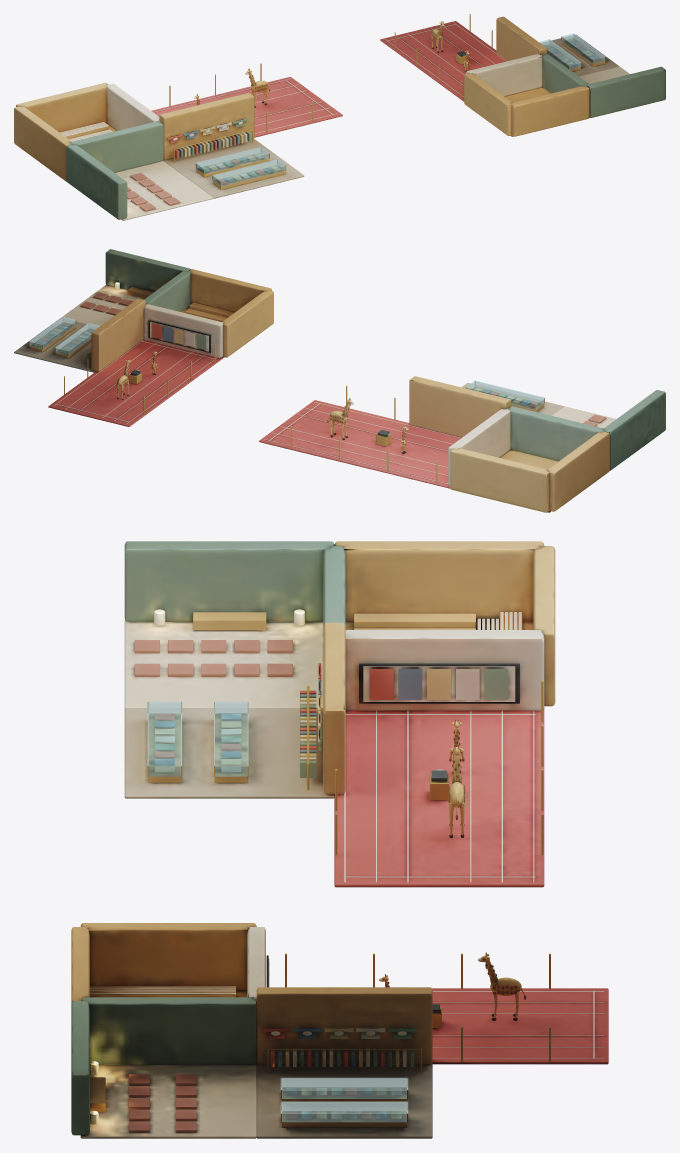
The model's file is baked.glb.
3 renders of one model, top to bottom at view 1: azimuth 30°, elevation 25°; view 2: azimuth 150°, elevation 25°; view 3: azimuth 270°, elevation 25°, orthographic. The views are drawn at different scales.
Parts seen in each view (by area): view 1: module_1_0_Sports_Floor.001, module_0_0_Sports_Floor.001, module_0_0_Vintage_Tshirt_Wall.001, module_0_0_Vintage_Floor.001, module_0_0_Prayer_Back_Wall.001, module_1_0_Sauna_Left_Wall.001, module_0_0_Prayer_Left_Wall.001, module_0_0_Sauna_Back_Wall.001, module_1_0_Prayer_Left_Wall.001, module_0_0_Supporters_Floor.001, module_0_0_Sauna_Left_Wall.001, module_1_0_Shared_Sauna_Sports_Wall.001 (+18 smaller); view 2: module_0_0_Sports_Floor.001, module_1_0_Sports_Floor.001, module_0_0_Sauna_Back_Wall.001, module_0_0_Vintage_Tshirt_Wall.001, module_0_0_Prayer_Back_Wall.001, module_0_0_Sauna_Left_Wall.001, module_0_0_Prayer_Left_Wall.001, module_1_0_Vintage_Tshirt_Wall.001, module_1_0_Prayer_Left_Wall.001, module_1_0_Sauna_Left_Wall.001, module_1_0_Sauna_Back_Wall.001, module_1_0_Shared_Sauna_Sports_Wall.001 (+11 smaller); view 3: module_0_0_Sports_Floor.001, module_0_0_Prayer_Left_Wall.001, module_0_0_Sauna_Left_Wall.001, module_1_0_Sports_Floor.001, module_0_0_Supporters_Floor.001, module_0_0_Vintage_Floor.001, module_1_0_Vintage_Tshirt_Wall.001, module_1_0_Prayer_Back_Wall.001, module_1_0_Sauna_Back_Wall.001, module_0_0_Shared_Sauna_Sports_Wall.001, module_1_0_Supporters_Floor.001, module_1_0_Vintage_Floor.001 (+22 smaller).
Part boxes in pixels (x1,y1,x2,y2): module_1_0_Sports_Floor.001: [380, 21, 506, 101]; module_0_0_Sports_Floor.001: [151, 76, 342, 137]; module_0_0_Vintage_Tshirt_Wall.001: [159, 93, 254, 159]; module_0_0_Vintage_Floor.001: [163, 138, 304, 198]; module_0_0_Prayer_Back_Wall.001: [70, 121, 163, 172]; module_1_0_Sauna_Left_Wall.001: [511, 86, 589, 136]; module_0_0_Prayer_Left_Wall.001: [66, 144, 127, 219]; module_0_0_Sauna_Back_Wall.001: [16, 82, 108, 132]; module_1_0_Prayer_Left_Wall.001: [587, 66, 665, 117]; module_0_0_Supporters_Floor.001: [114, 160, 213, 220]; module_0_0_Sauna_Left_Wall.001: [14, 105, 71, 181]; module_1_0_Shared_Sauna_Sports_Wall.001: [466, 54, 543, 96]; module_0_0_Sports_Floor.001: [259, 400, 461, 488]; module_1_0_Sports_Floor.001: [48, 339, 222, 426]; module_0_0_Sauna_Back_Wall.001: [450, 448, 549, 512]; module_0_0_Vintage_Tshirt_Wall.001: [409, 376, 510, 437]; module_0_0_Prayer_Back_Wall.001: [508, 406, 605, 461]; module_0_0_Sauna_Left_Wall.001: [547, 431, 609, 511]; module_0_0_Prayer_Left_Wall.001: [603, 390, 665, 470]; module_1_0_Vintage_Tshirt_Wall.001: [91, 298, 145, 371]; module_1_0_Prayer_Left_Wall.001: [105, 249, 190, 291]; module_1_0_Sauna_Left_Wall.001: [189, 269, 272, 312]; module_1_0_Sauna_Back_Wall.001: [222, 290, 273, 357]; module_1_0_Shared_Sauna_Sports_Wall.001: [143, 304, 223, 358]; module_0_0_Sports_Floor.001: [334, 708, 544, 887]; module_0_0_Prayer_Left_Wall.001: [124, 541, 334, 621]; module_0_0_Sauna_Left_Wall.001: [334, 541, 544, 621]; module_1_0_Sports_Floor.001: [256, 988, 608, 1064]; module_0_0_Supporters_Floor.001: [124, 620, 323, 708]; module_0_0_Vintage_Floor.001: [124, 708, 334, 798]; module_1_0_Vintage_Tshirt_Wall.001: [256, 987, 432, 1064]; module_1_0_Prayer_Back_Wall.001: [81, 997, 256, 1064]; module_1_0_Sauna_Back_Wall.001: [80, 923, 256, 990]; module_0_0_Shared_Sauna_Sports_Wall.001: [345, 630, 544, 710]; module_1_0_Supporters_Floor.001: [80, 1063, 256, 1138]; module_1_0_Vintage_Floor.001: [256, 1063, 432, 1138].
Size of what is drawn, in the model's own units: 70.64 by 5.62 by 30.72.
Materials: 3 (2 with a texture image).
